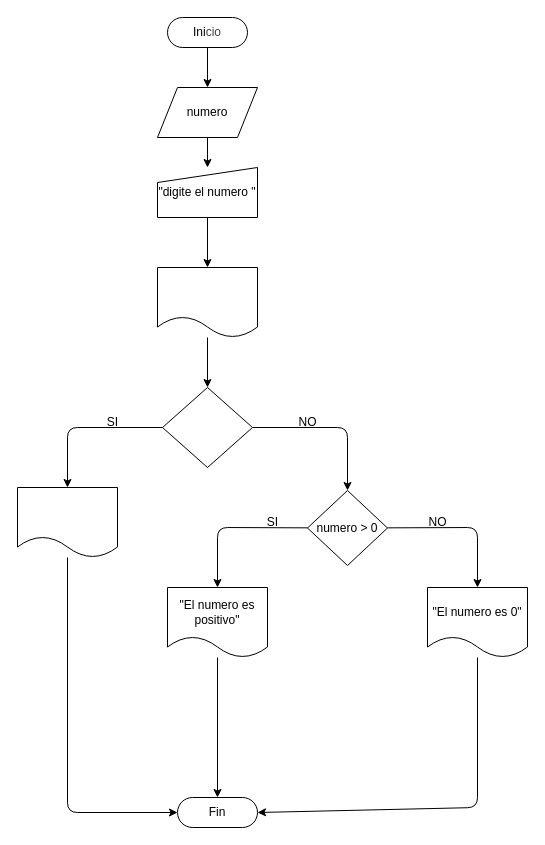
The diagram is 545 pixels wide and 845 high, and some of its shapes have lost their labels. Each missing label, with the centre of its shape:
"El numero ingresado es " +numero: point (207, 302)
"El numero ingresado es negativo": point (67, 522)
numero < 0: point (207, 427)
